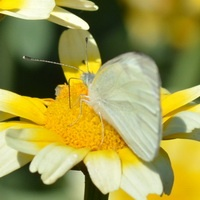insect: (81, 52, 161, 161)
